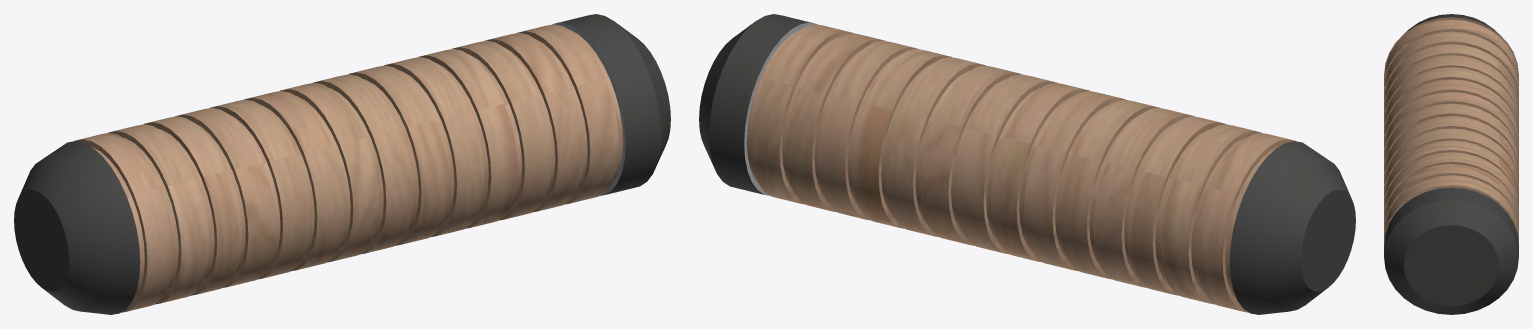
Rendered from Surgu_Kolu.glb.
3 views of the same model, side by side, from view 1: azimuth 30°, elevation 25°; view 2: azimuth 150°, elevation 25°; view 3: azimuth 270°, elevation 25° (orthographic). The views are drawn at different scales.
Visible parts, largest first — view 1: Surgu_Kolu; view 2: Surgu_Kolu; view 3: Surgu_Kolu.
Boxes of the visible parts, bbox=[...] form: Surgu_Kolu: bbox=[14, 14, 670, 314]; Surgu_Kolu: bbox=[699, 14, 1355, 314]; Surgu_Kolu: bbox=[1384, 14, 1518, 314].
Size of the model in its own units: 0.7218 by 0.1849 by 0.1966.
3 materials, 3 textured.
